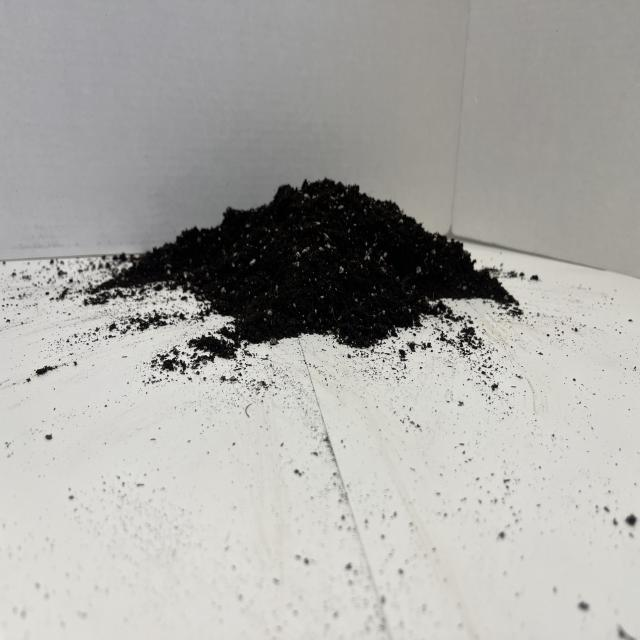soil: (85, 174, 523, 355)
